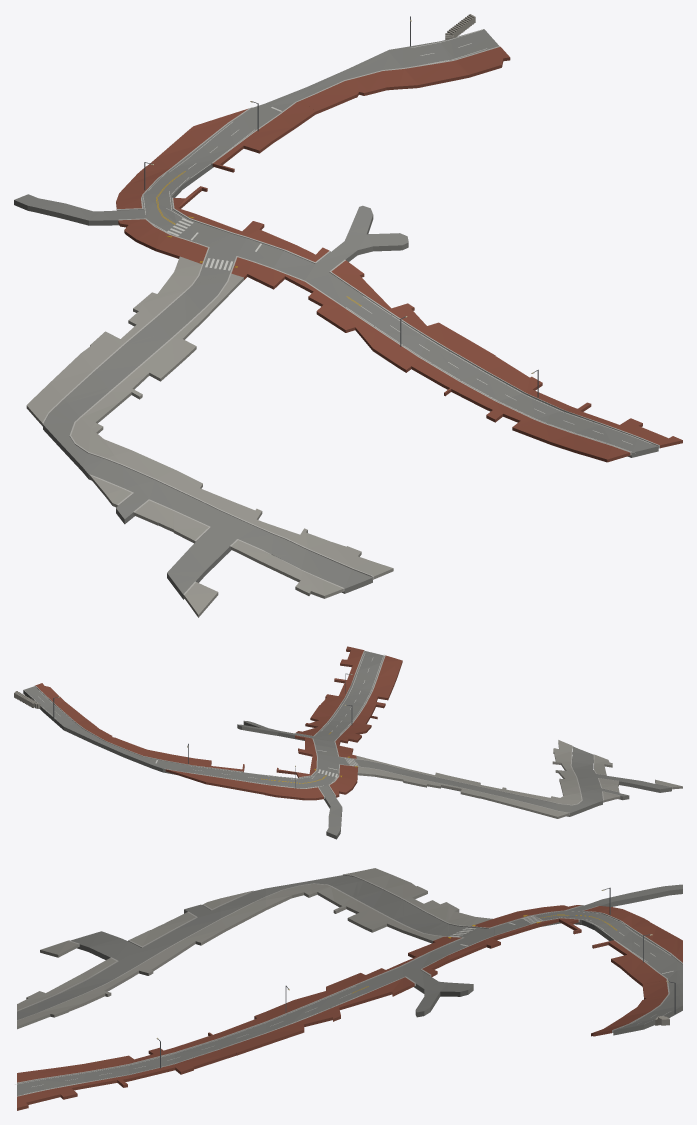
The picture shows the model from 3 angles, top to bottom: view 1: azimuth 30°, elevation 25°; view 2: azimuth 150°, elevation 25°; view 3: azimuth 270°, elevation 25°; orthographic projection. The views are drawn at different scales.
Size of the model in its own units: 147 by 54.52 by 146.
